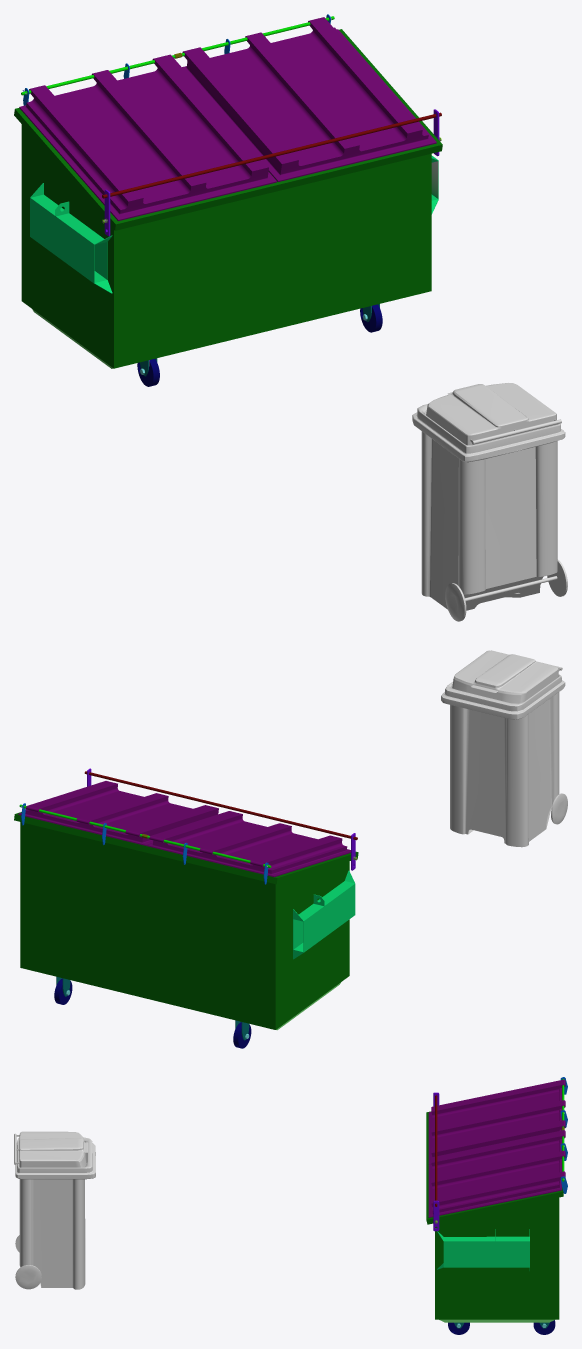
The model's file is Side-Street-Bins.fbx.
The picture shows the model from 3 angles, top to bottom: view 1: azimuth 30°, elevation 25°; view 2: azimuth 150°, elevation 25°; view 3: azimuth 270°, elevation 25°; orthographic projection. The views are drawn at different scales.
Visible parts, largest first — view 1: SideStreet-Props-Bins; view 2: SideStreet-Props-Bins; view 3: SideStreet-Props-Bins.
Boxes of the visible parts, left/top/right/bottom form: SideStreet-Props-Bins: left=14, top=14, right=567, bottom=621; SideStreet-Props-Bins: left=14, top=650, right=567, bottom=1048; SideStreet-Props-Bins: left=14, top=1077, right=567, bottom=1334.
Bounding box in the file's own units: 216 × 151 × 446.
